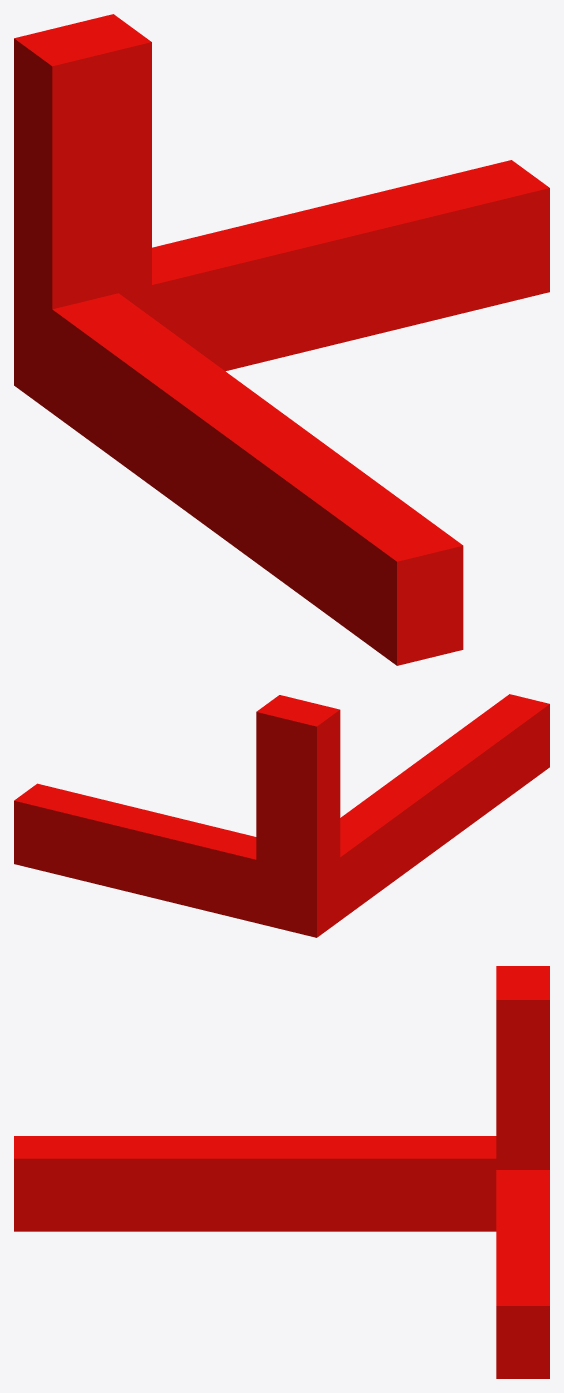
Rendered from ArenaMarker.obj.
The picture shows the model from 3 angles, top to bottom: view 1: azimuth 30°, elevation 25°; view 2: azimuth 150°, elevation 25°; view 3: azimuth 270°, elevation 25°; orthographic projection. The views are drawn at different scales.
Parts seen in each view (by area): view 1: arena_marker; view 2: arena_marker; view 3: arena_marker.
Part boxes in pixels (x1,y1,x2,y2): arena_marker: (14, 14, 549, 665); arena_marker: (14, 694, 549, 937); arena_marker: (14, 966, 549, 1378).
Size of the model in its own units: 0.15 by 0.1 by 0.2.
